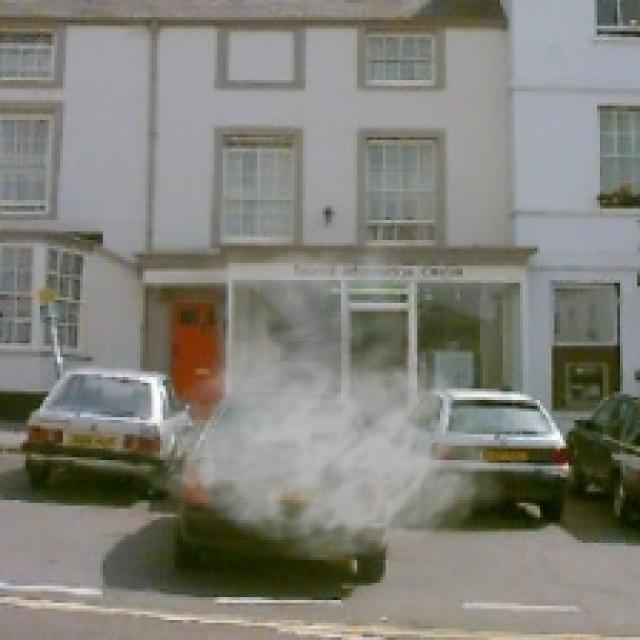Smoke: (134, 217, 506, 563)
